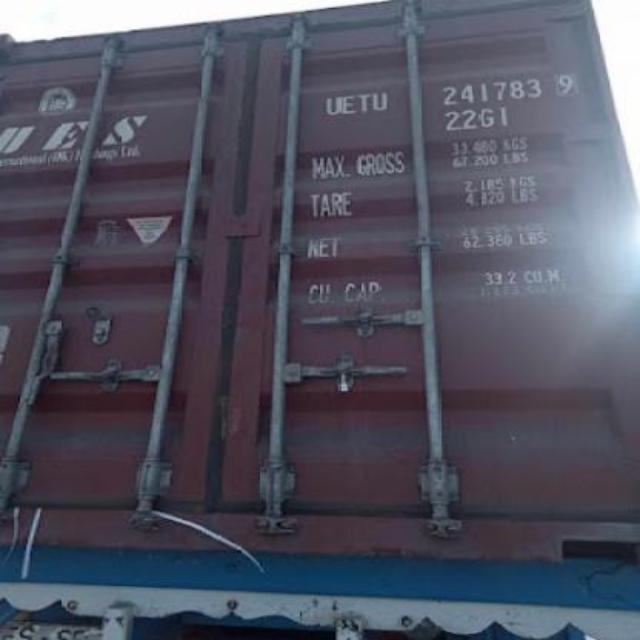1: (478, 82, 494, 106)
2: (442, 84, 458, 106)
3: (524, 76, 546, 104)
4: (458, 83, 476, 107)
7: (492, 79, 508, 105)
8: (510, 80, 528, 104)
9: (556, 74, 578, 96)
E: (342, 94, 360, 116)
T: (356, 91, 374, 112)
U: (370, 90, 390, 114), (324, 94, 342, 118)
